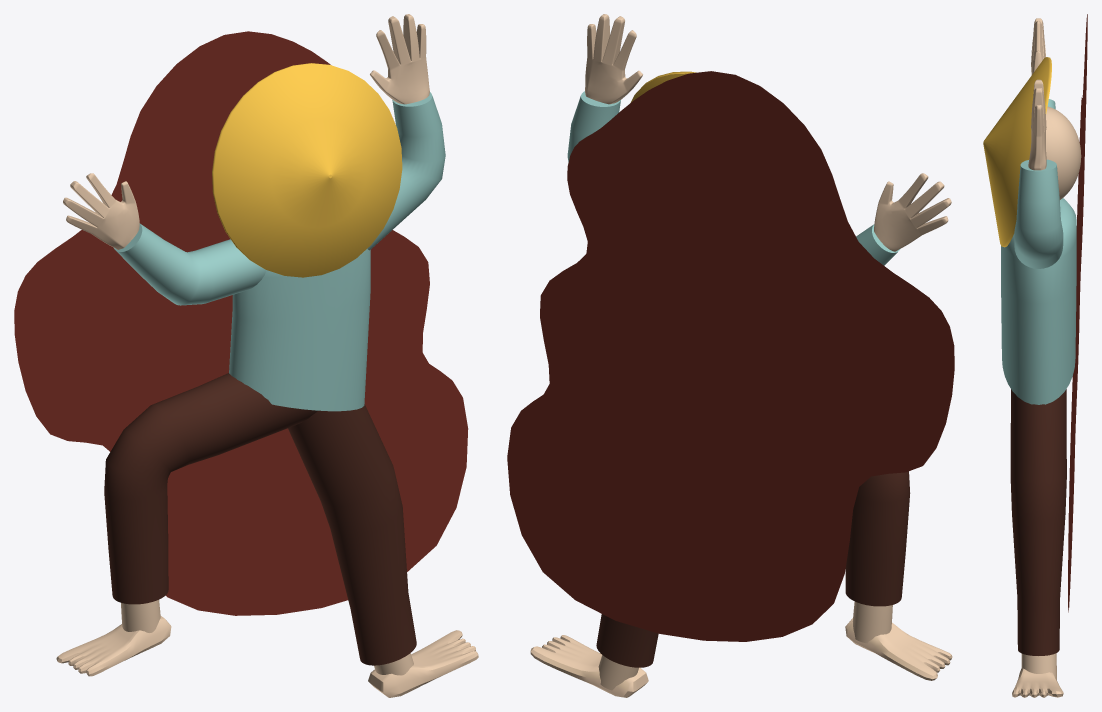
File: deadman.fbx
3 renders of one model, left to right at view 1: azimuth 30°, elevation 25°; view 2: azimuth 150°, elevation 25°; view 3: azimuth 270°, elevation 25°, orthographic. The views are drawn at different scales.
Parts seen in each view (by area): view 1: Plane.007, Cylinder.023, Cylinder.028, Cylinder.027; view 2: Plane.007, Cylinder.027, Cylinder.023; view 3: Cylinder.023, Cylinder.027, Cylinder.028, Plane.007.
Part boxes in pixels (box(x1,y1,x2,y2)): Plane.007: box(14, 31, 468, 615); Cylinder.023: box(104, 92, 445, 665); Cylinder.028: box(212, 63, 402, 277); Cylinder.027: box(56, 14, 478, 697); Plane.007: box(507, 71, 954, 641); Cylinder.027: box(530, 14, 952, 697); Cylinder.023: box(567, 91, 910, 667); Cylinder.023: box(1001, 99, 1076, 655); Cylinder.027: box(1012, 18, 1081, 697); Cylinder.028: box(983, 57, 1051, 247); Plane.007: box(1068, 14, 1087, 612).
Bounding box in the file's own units: 158 × 225 × 35.1.
4 materials, 4 textured.
